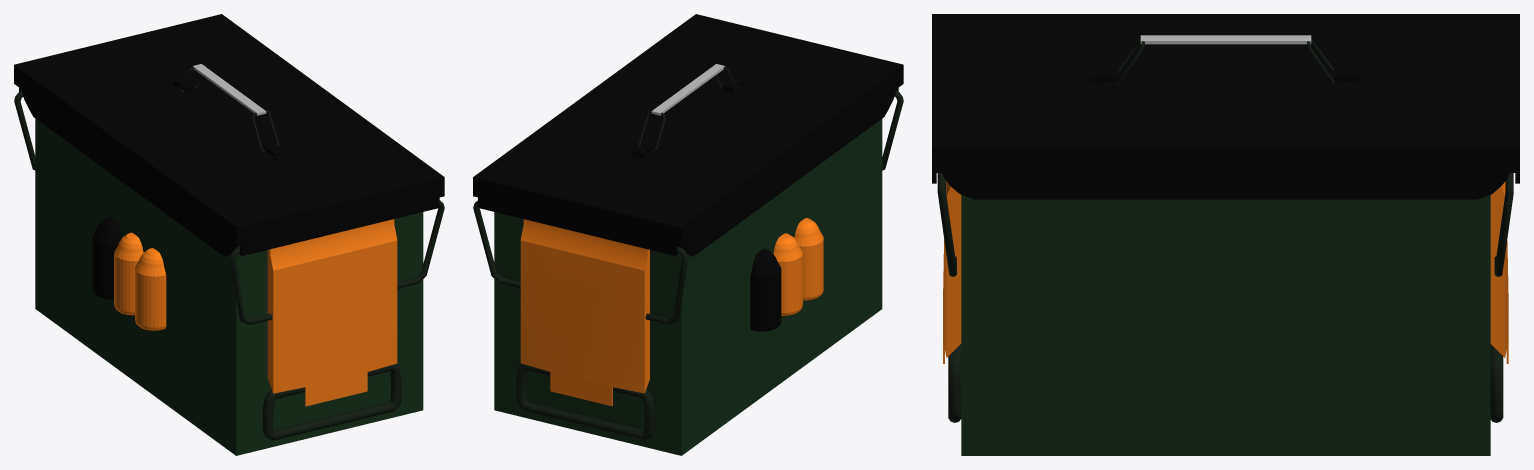
The model's file is Ammo Box.fbx.
3 renders of one model, left to right at view 1: azimuth 30°, elevation 25°; view 2: azimuth 150°, elevation 25°; view 3: azimuth 270°, elevation 25°, orthographic. The views are drawn at different scales.
Visible parts, largest first — view 1: polySurface27; view 2: polySurface27; view 3: polySurface27.
Boxes of the visible parts, x1=… form: polySurface27: x1=14, y1=14, x2=444, y2=455; polySurface27: x1=473, y1=14, x2=903, y2=455; polySurface27: x1=932, y1=14, x2=1519, y2=455.
Size of the model in its own units: 15.14 by 17.87 by 26.62.
